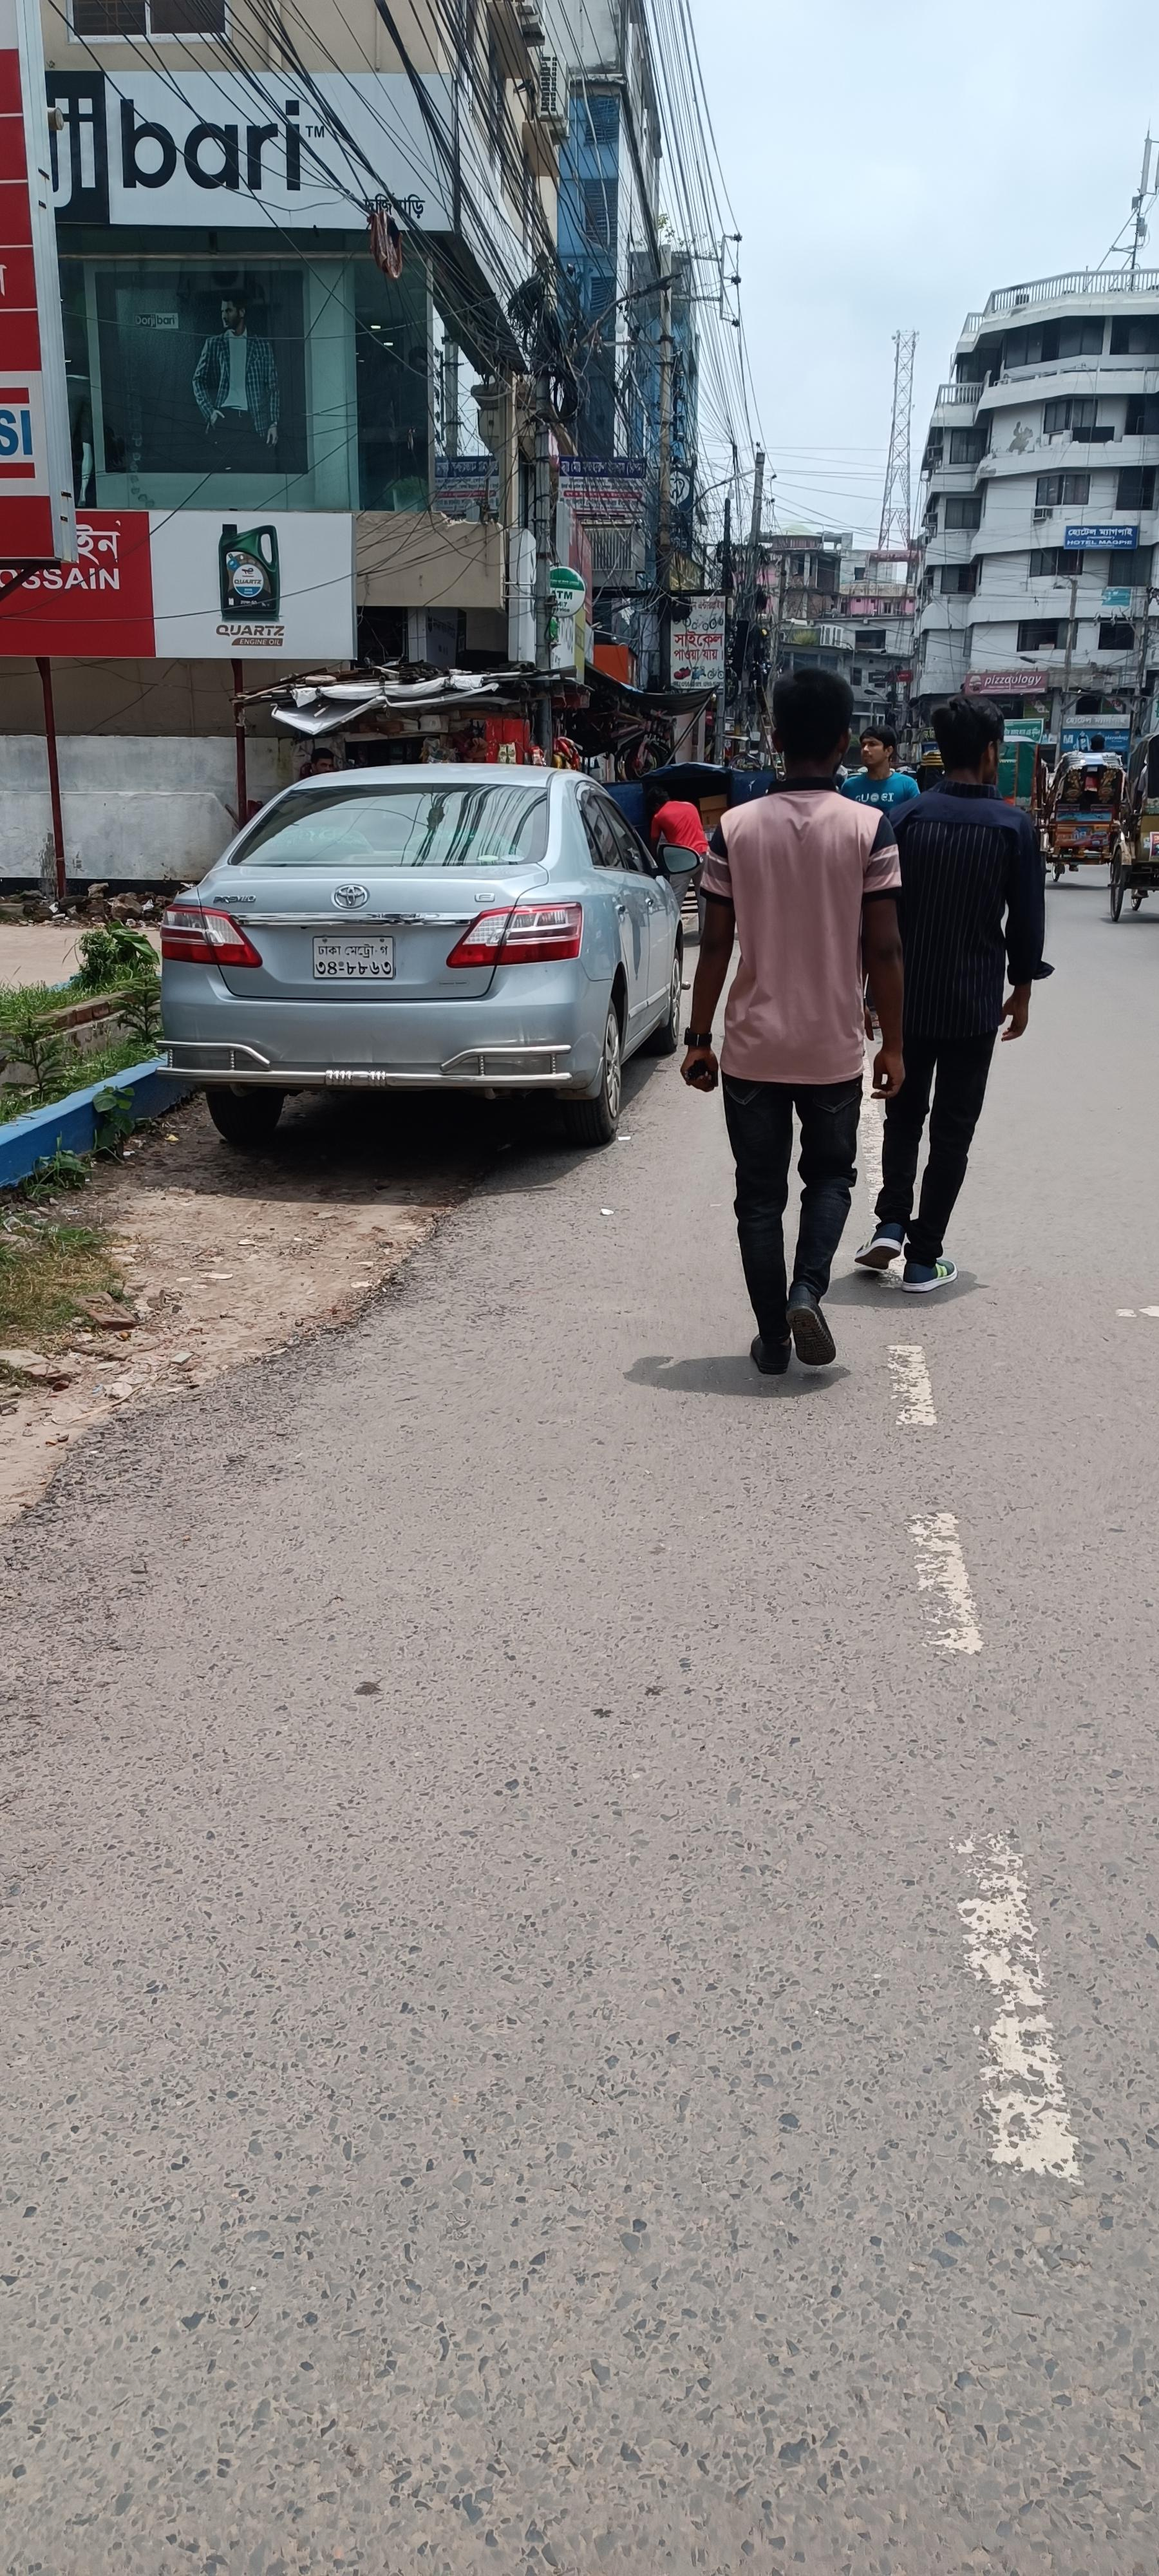Broken-road: (161, 721, 694, 1230)
Garbage-bin: (680, 667, 908, 1373), (854, 692, 1054, 1293), (841, 724, 921, 816)
